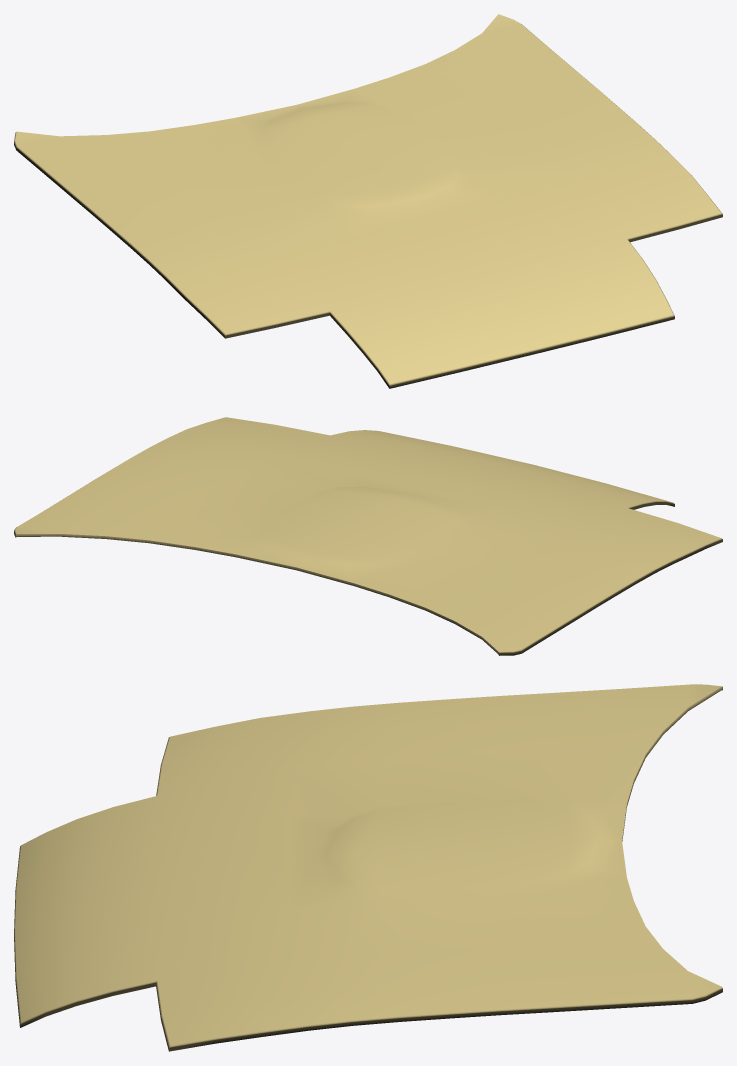
The model's file is MX5_Hood02_Duco.fbx.
3 renders of one model, top to bottom at view 1: azimuth 30°, elevation 25°; view 2: azimuth 150°, elevation 25°; view 3: azimuth 270°, elevation 25°, orthographic. The views are drawn at different scales.
Parts seen in each view (by area): view 1: MX5_Hood02_Duco; view 2: MX5_Hood02_Duco; view 3: MX5_Hood02_Duco.
Part boxes in pixels (x1,y1,x2,y2): MX5_Hood02_Duco: (14, 14, 722, 388); MX5_Hood02_Duco: (14, 417, 722, 655); MX5_Hood02_Duco: (14, 684, 722, 1051).
Bounding box in the file's own units: 130 × 19.71 × 123.
